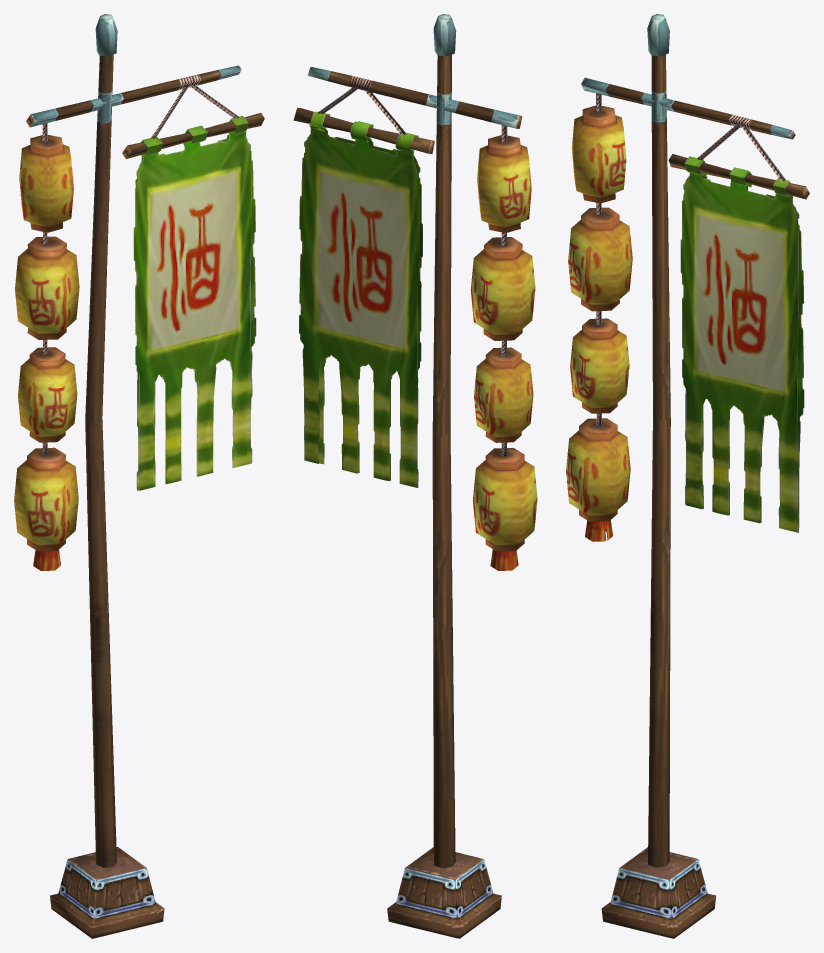
3 renders of one model, left to right at view 1: azimuth 30°, elevation 25°; view 2: azimuth 150°, elevation 25°; view 3: azimuth 330°, elevation 25°, orthographic.
Parts seen in each view (by area): view 1: qi_zi_003_b, qi_zi_003_a, qi_zi_003_c; view 2: qi_zi_003_b, qi_zi_003_a, qi_zi_003_c; view 3: qi_zi_003_b, qi_zi_003_a, qi_zi_003_c.
Part boxes in pixels (box(x1,y1,x2,y2)): qi_zi_003_b: box(122, 84, 264, 490); qi_zi_003_a: box(26, 14, 241, 938); qi_zi_003_c: box(14, 122, 79, 570); qi_zi_003_b: box(293, 87, 434, 487); qi_zi_003_a: box(308, 14, 522, 938); qi_zi_003_c: box(470, 125, 537, 570); qi_zi_003_b: box(668, 124, 809, 532); qi_zi_003_a: box(581, 14, 795, 938); qi_zi_003_c: box(566, 92, 632, 541).
Size of the model in its own units: 147 by 532 by 45.05.
